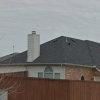Chimney: (21, 28, 47, 70)
